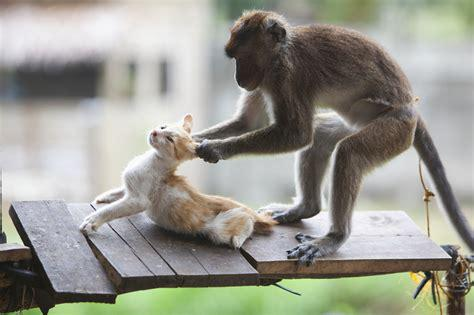cat: (80, 114, 275, 248)
monkey: (195, 11, 473, 261)
